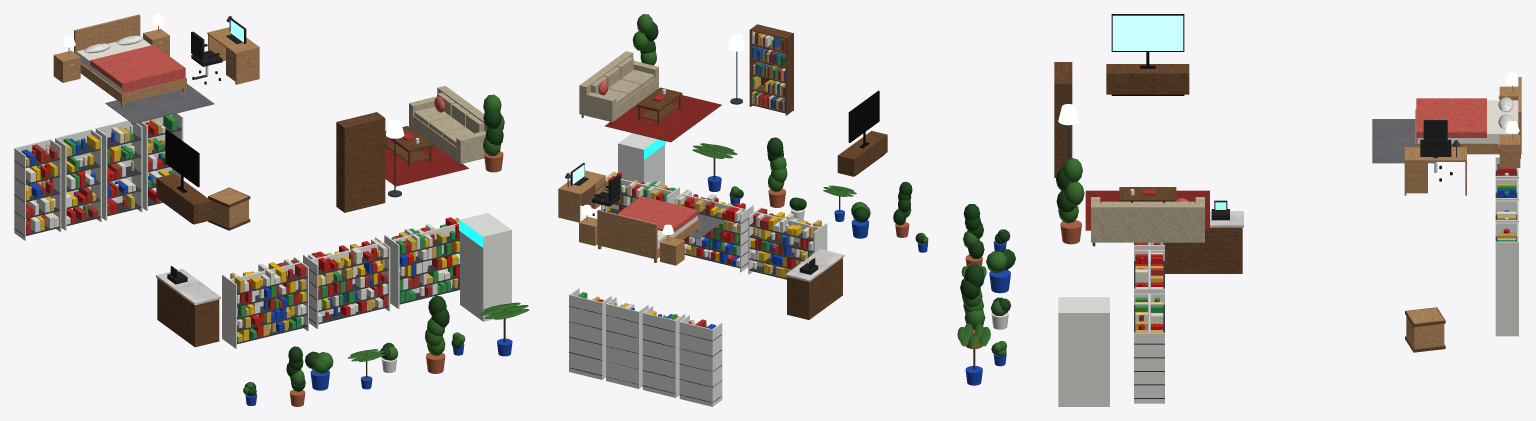
Rendered from i_florist_petal.gltf.
The picture shows the model from 3 angles, left to right: view 1: azimuth 30°, elevation 25°; view 2: azimuth 150°, elevation 25°; view 3: azimuth 270°, elevation 25°; orthographic projection. The views are drawn at different scales.
Parts seen in each view (by area): view 1: I_florist_petal; view 2: I_florist_petal; view 3: I_florist_petal.
Part boxes in pixels (x1,y1,x2,y2): I_florist_petal: (14, 14, 529, 406); I_florist_petal: (558, 14, 928, 406); I_florist_petal: (957, 14, 1521, 406).
Size of the model in its own units: 7.29 by 5.4 by 10.88.
37 materials, 10 textured.
